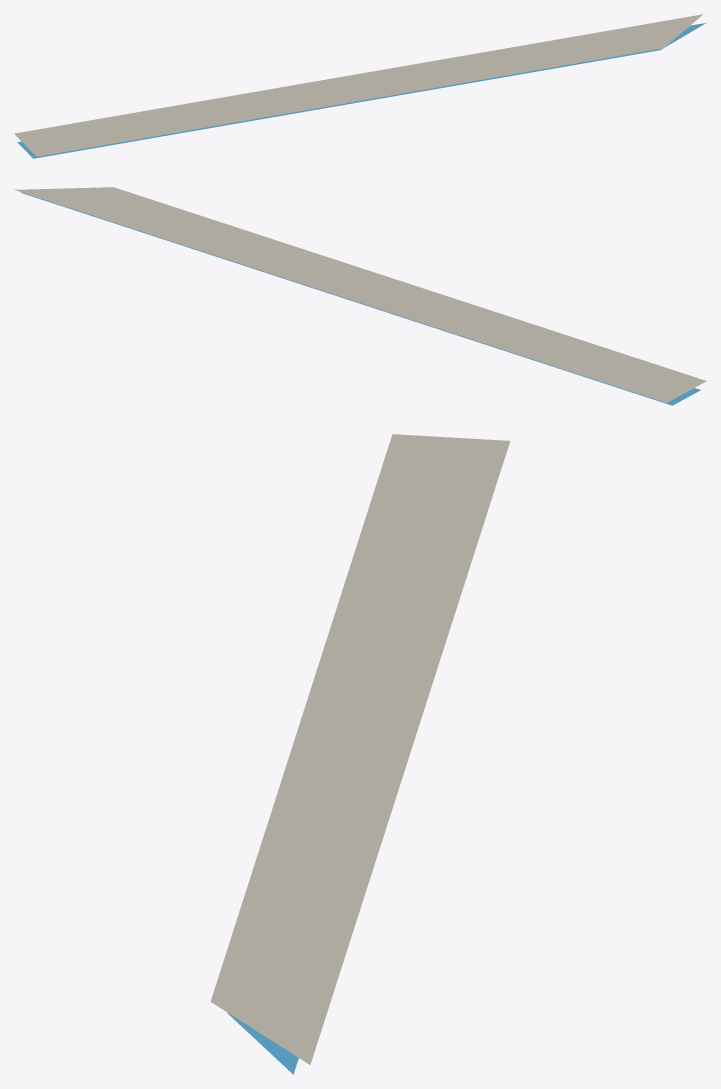
3 renders of one model, top to bottom at view 1: azimuth 30°, elevation 25°; view 2: azimuth 150°, elevation 25°; view 3: azimuth 270°, elevation 25°, orthographic. The views are drawn at different scales.
Parts seen in each view (by area): view 1: estructura_terreno, estructura_agua; view 2: estructura_terreno, estructura_agua; view 3: estructura_terreno.
Boxes of the visible parts, <box> form: estructura_terreno: <box>14,14,702,156</box>; estructura_agua: <box>17,22,706,158</box>; estructura_terreno: <box>14,187,706,402</box>; estructura_agua: <box>21,192,700,405</box>; estructura_terreno: <box>210,434,510,1064</box>.
Bounding box in the file's own units: 52.68 × 0.41 × 10.58.
